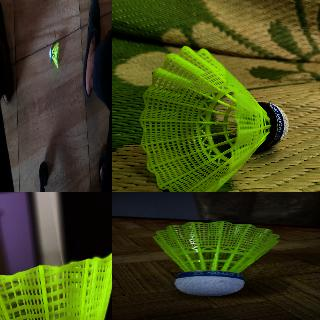shuttlecock: (140, 44, 290, 191), (152, 220, 280, 296), (0, 250, 111, 319), (50, 42, 59, 68)
